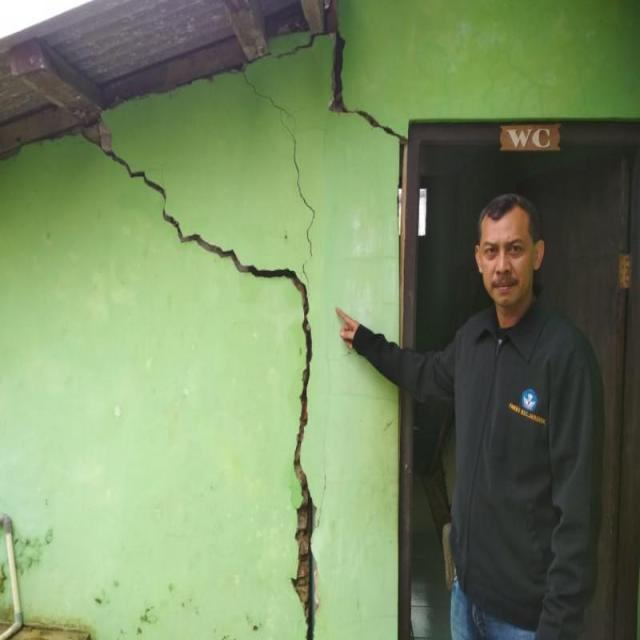crack: (84, 111, 320, 639)
